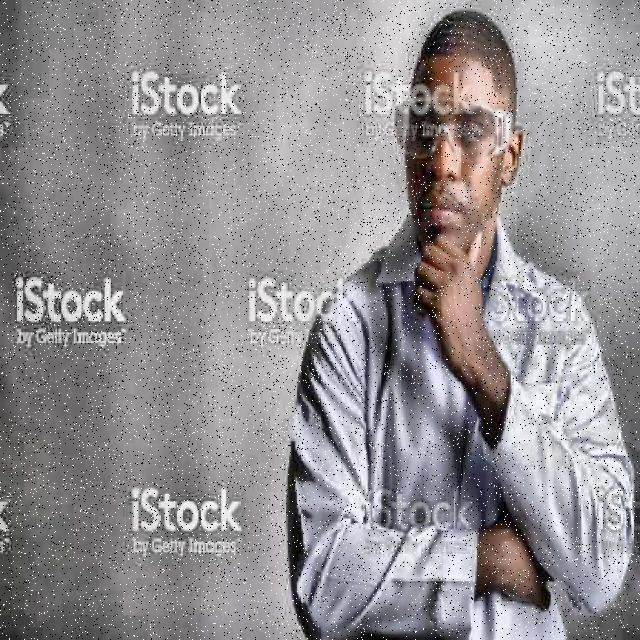Goggles: (382, 96, 524, 162)
